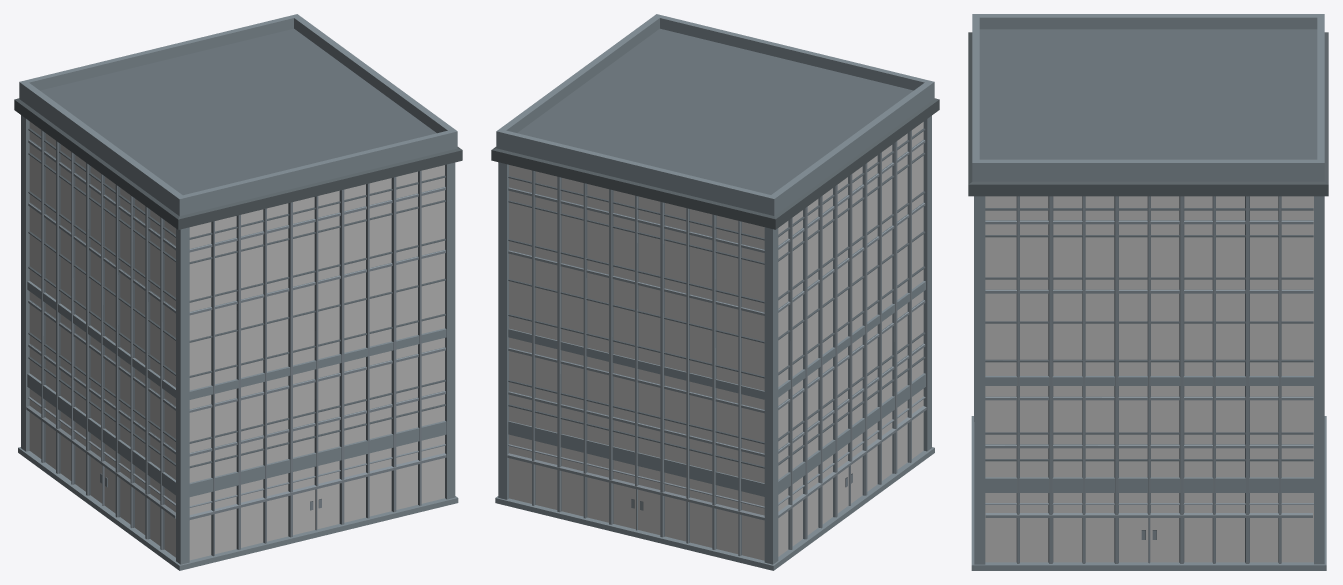
File: SM_Gen_Bld_Background_07.fbx
3 views of the same model, side by side, from view 1: azimuth 30°, elevation 25°; view 2: azimuth 150°, elevation 25°; view 3: azimuth 270°, elevation 25° (orthographic). The views are drawn at different scales.
Parts seen in each view (by area): view 1: SM_Gen_Bld_Background_07; view 2: SM_Gen_Bld_Background_07; view 3: SM_Gen_Bld_Background_07.
Part boxes in pixels (x1,y1,x2,y2): SM_Gen_Bld_Background_07: (14, 14, 462, 570); SM_Gen_Bld_Background_07: (491, 14, 939, 570); SM_Gen_Bld_Background_07: (968, 14, 1328, 570).
Size of the model in its own units: 1384 by 1726 by 1382.
